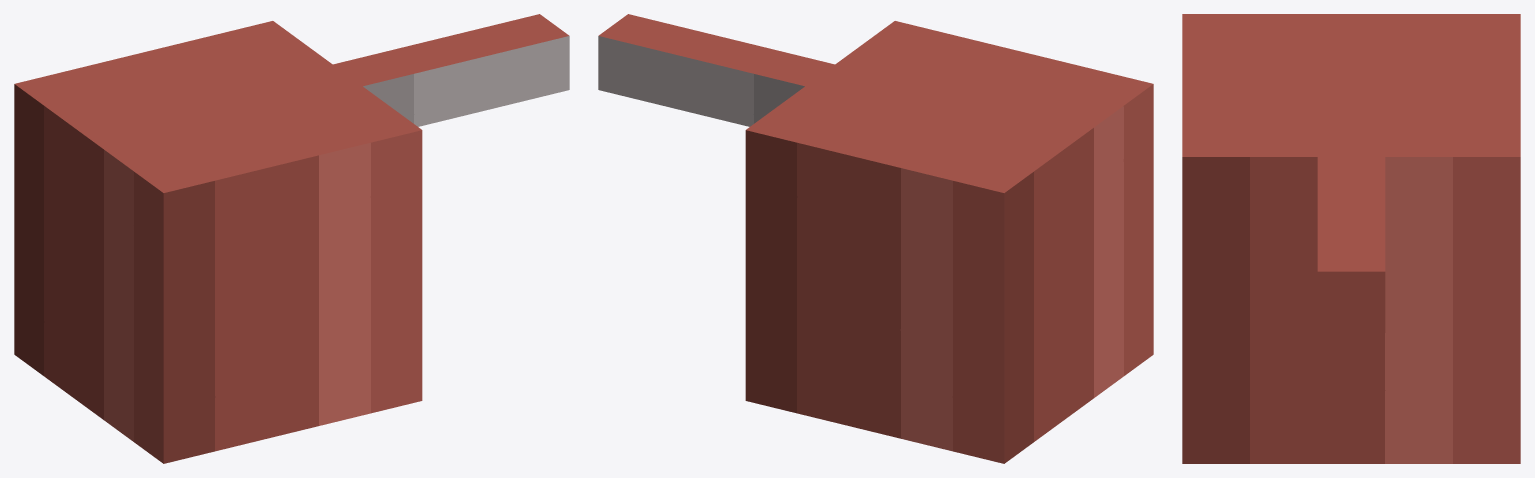
Rendered from int_kitchen_stuff2ao.fezao.glb.
3 renders of one model, left to right at view 1: azimuth 30°, elevation 25°; view 2: azimuth 150°, elevation 25°; view 3: azimuth 270°, elevation 25°, orthographic. The views are drawn at different scales.
Parts seen in each view (by area): view 1: INT_KITCHEN_STUFF2AO; view 2: INT_KITCHEN_STUFF2AO; view 3: INT_KITCHEN_STUFF2AO.
Boxes of the visible parts, x1=… form: INT_KITCHEN_STUFF2AO: x1=14, y1=14, x2=569, y2=463; INT_KITCHEN_STUFF2AO: x1=598, y1=14, x2=1153, y2=463; INT_KITCHEN_STUFF2AO: x1=1182, y1=14, x2=1520, y2=463.
Bounding box in the file's own units: 0.5625 × 0.3125 × 0.3125.
Materials: 1 (1 with a texture image).
